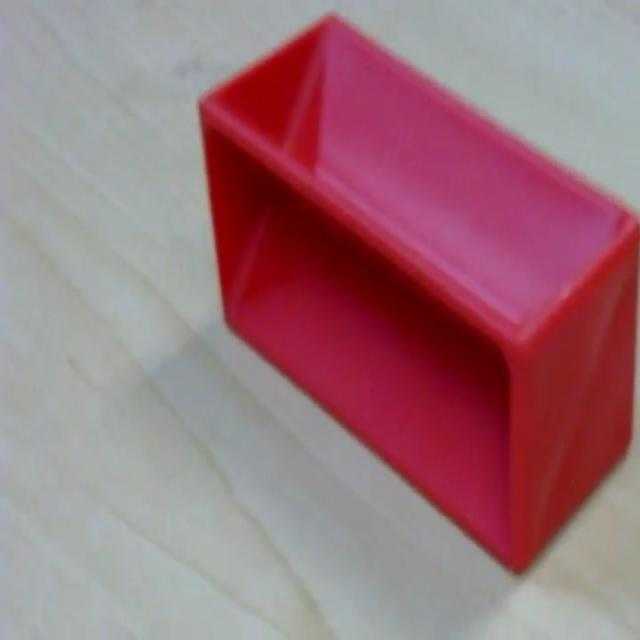red_block: (196, 11, 638, 574)
